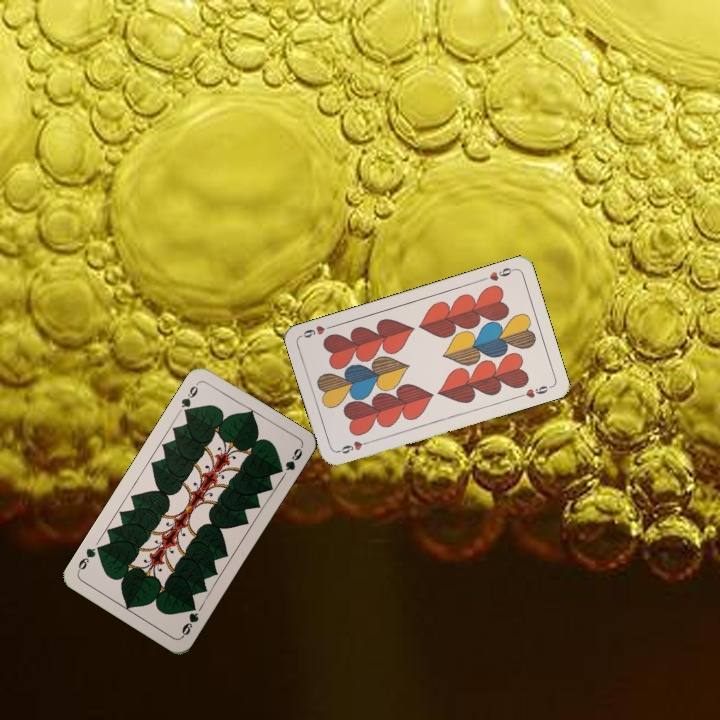G9: (177, 600, 201, 640), (177, 379, 201, 418)
H9: (478, 264, 518, 284), (334, 437, 374, 456)
